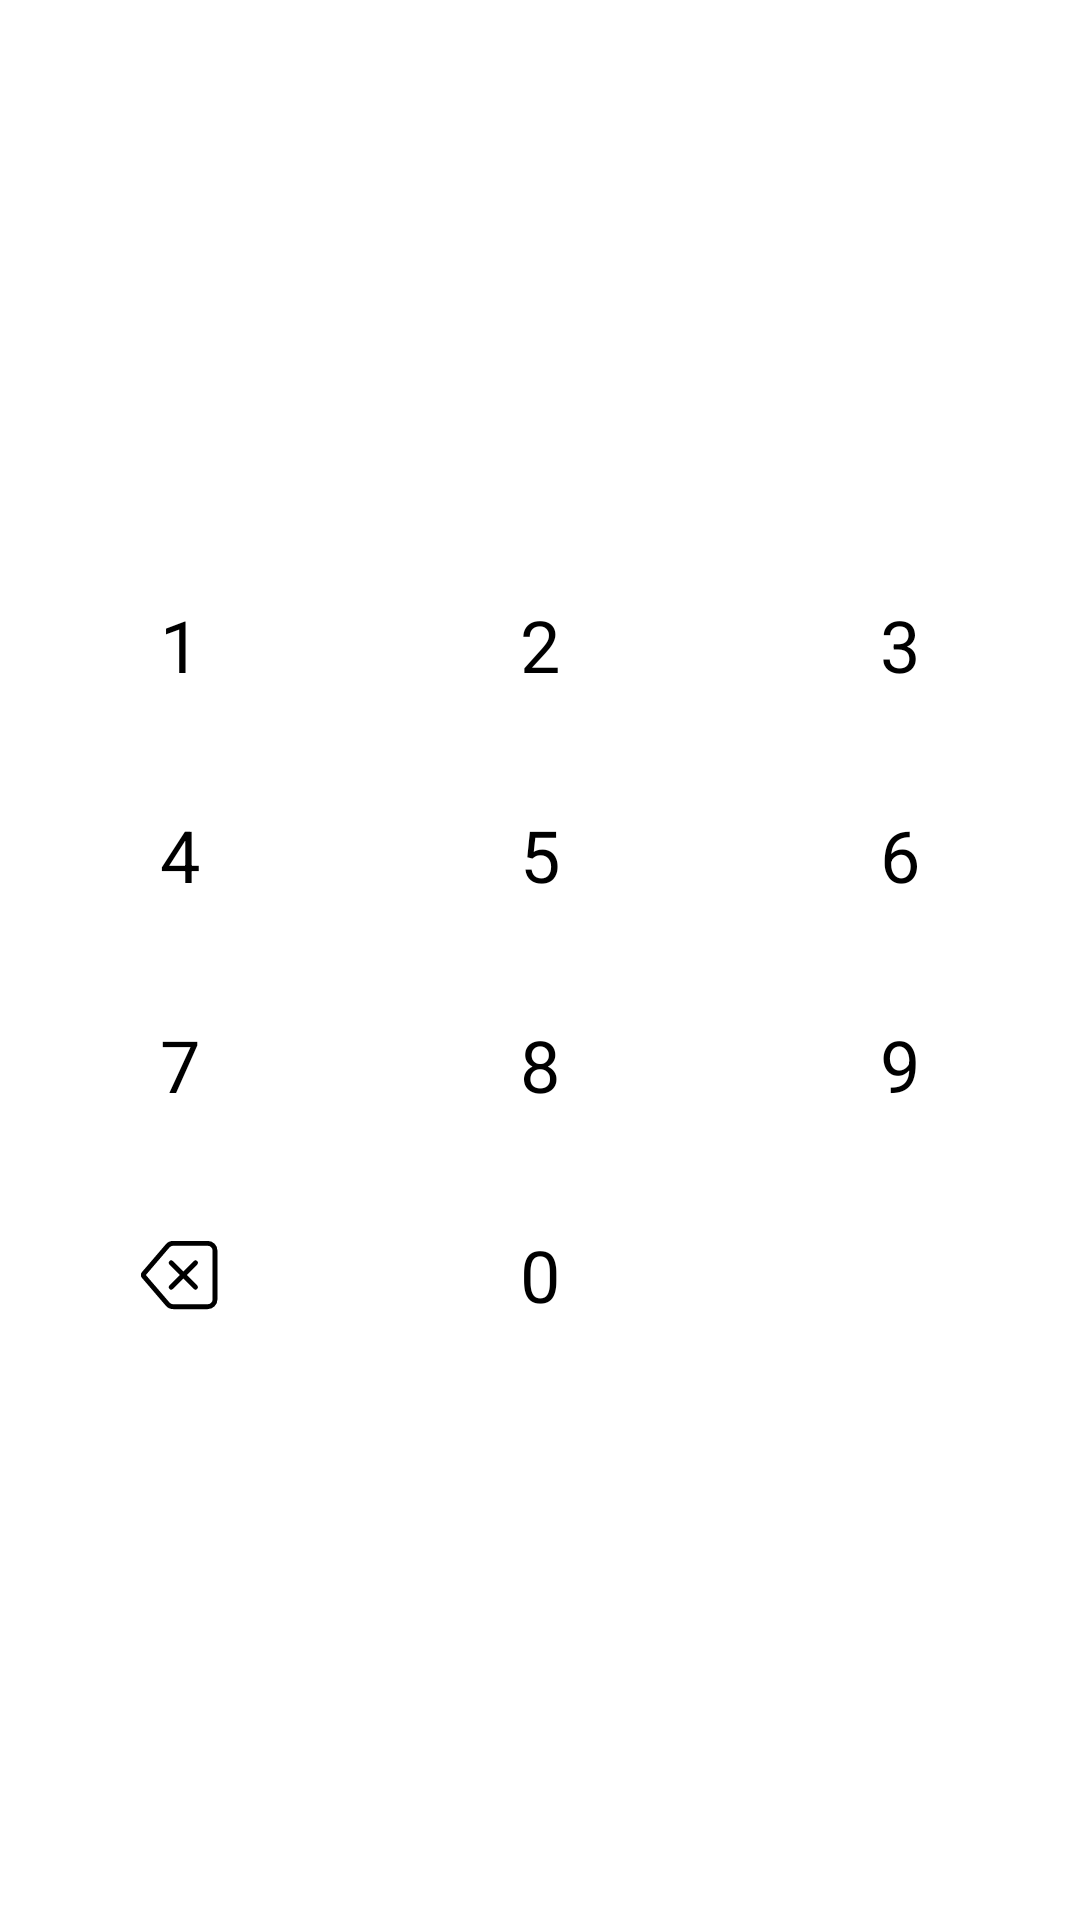

Icon click points for this 1080 x 1920 phone screenshot, format (x=x, y=y):
backspace: (x=179, y=1275)
